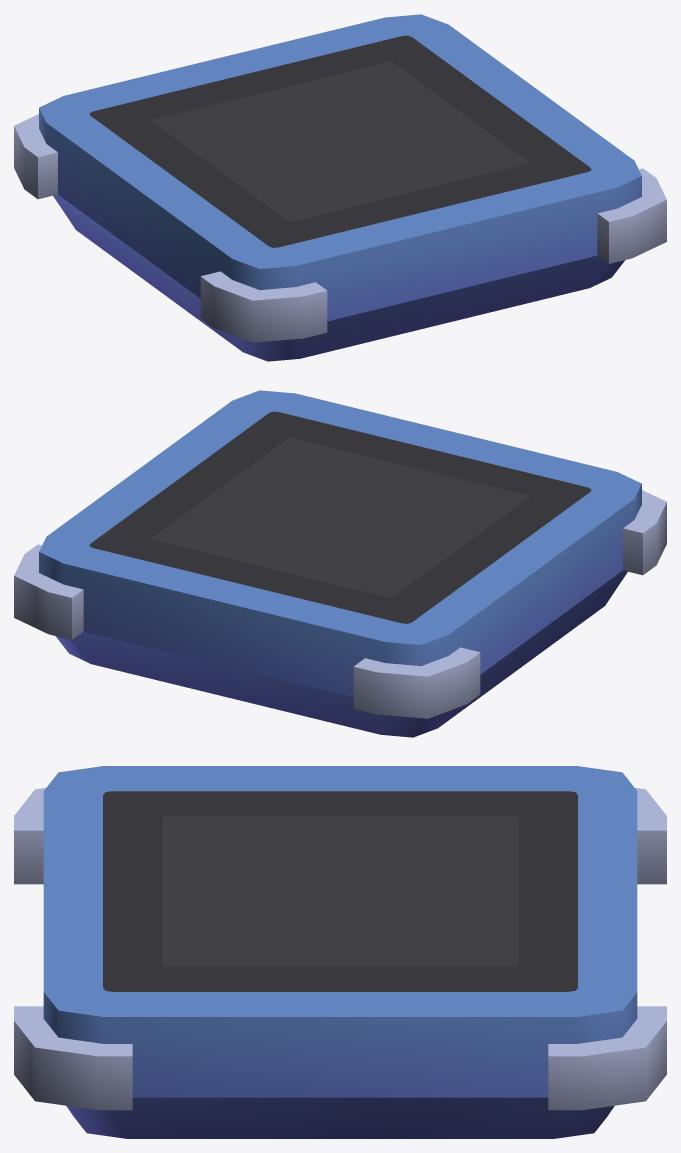
The model's file is platform-moving.fbx.
3 views of the same model, one above another, from view 1: azimuth 30°, elevation 25°; view 2: azimuth 150°, elevation 25°; view 3: azimuth 270°, elevation 25° (orthographic). The views are drawn at different scales.
Parts seen in each view (by area): view 1: platform-moving; view 2: platform-moving; view 3: platform-moving.
Part boxes in pixels (bbox=[...]): platform-moving: bbox=[14, 14, 666, 361]; platform-moving: bbox=[14, 390, 666, 737]; platform-moving: bbox=[14, 766, 666, 1138].
Bounding box in the file's own units: 220 × 50 × 220.
1 material, 1 textured.
